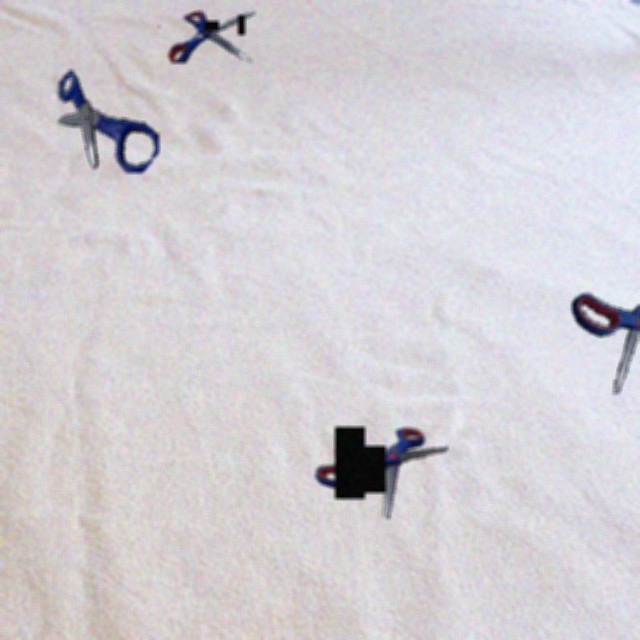scissors: (315, 427, 448, 519), (58, 70, 159, 173), (572, 277, 640, 394), (159, 11, 255, 63)
